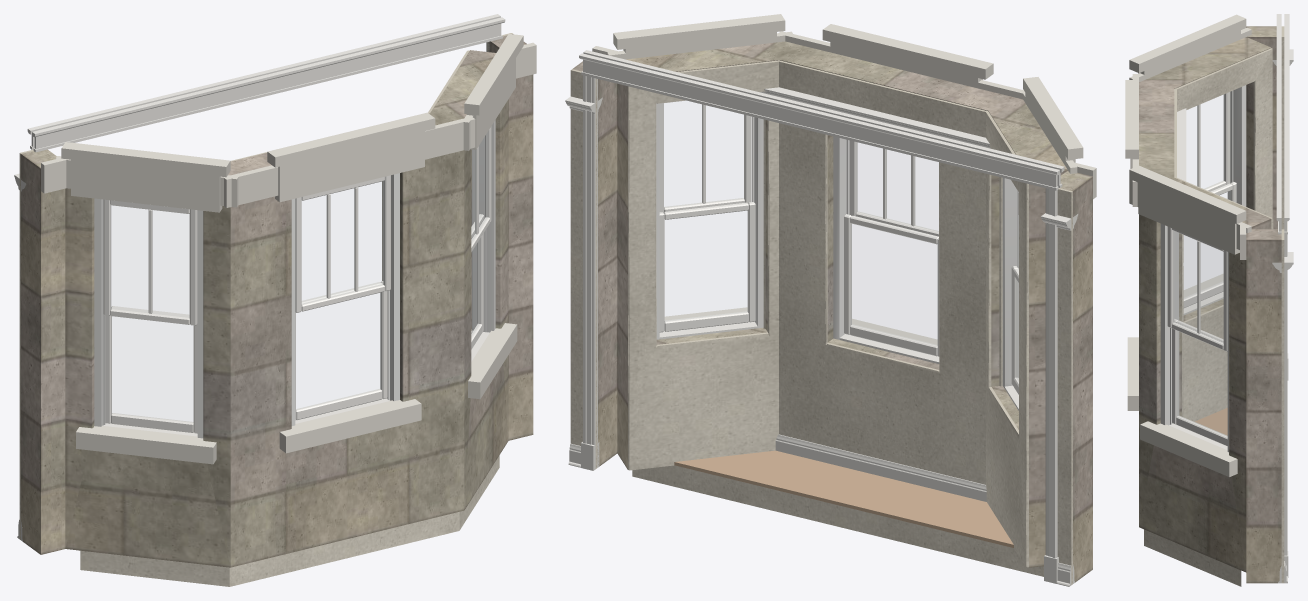
The model's file is bay_b1.glb.
The picture shows the model from 3 angles, left to right: view 1: azimuth 30°, elevation 25°; view 2: azimuth 150°, elevation 25°; view 3: azimuth 270°, elevation 25°; orthographic projection. The views are drawn at different scales.
Visible parts, largest first — view 1: bay_b1_grey, bay_b1_lime, bay_b1_glass, bay_b1_sash, molduras, bay_b1_frame, bay_b1_plaster, bay_b1_trim; view 2: bay_b1_plaster, bay_b1_grey, molduras, bay_b1_glass, bay_b1_lime, bay_b1_sash, bay_b1_floor, bay_b1_frame, bay_b1_trim; view 3: bay_b1_grey, bay_b1_plaster, bay_b1_lime, bay_b1_glass, bay_b1_sash, molduras, bay_b1_frame, bay_b1_trim, bay_b1_floor.
Part boxes in pixels (left/top/right/bottom): bay_b1_grey: left=21, top=34, right=533, bottom=567; bay_b1_lime: left=41, top=34, right=536, bottom=464; bay_b1_glass: left=111, top=133, right=487, bottom=421; bay_b1_sash: left=103, top=126, right=491, bottom=433; molduras: left=14, top=14, right=505, bottom=541; bay_b1_frame: left=94, top=120, right=495, bottom=438; bay_b1_plaster: left=19, top=33, right=512, bottom=586; bay_b1_trim: left=103, top=330, right=489, bottom=436; bay_b1_plaster: left=570, top=60, right=1072, bottom=584; bay_b1_grey: left=572, top=41, right=1092, bottom=582; molduras: left=565, top=50, right=1078, bottom=586; bay_b1_glass: left=664, top=101, right=1018, bottom=380; bay_b1_lime: left=592, top=14, right=1096, bottom=344; bay_b1_sash: left=659, top=103, right=1018, bottom=394; bay_b1_floor: left=674, top=450, right=1013, bottom=547; bay_b1_frame: left=656, top=92, right=1018, bottom=387; bay_b1_trim: left=659, top=321, right=1018, bottom=410; bay_b1_grey: left=1139, top=26, right=1281, bottom=583; bay_b1_plaster: left=1144, top=26, right=1284, bottom=586; bay_b1_lime: left=1125, top=14, right=1251, bottom=476; bay_b1_glass: left=1173, top=95, right=1230, bottom=435; bay_b1_sash: left=1167, top=92, right=1236, bottom=446; molduras: left=1177, top=14, right=1293, bottom=583; bay_b1_frame: left=1160, top=85, right=1246, bottom=452; bay_b1_trim: left=1169, top=291, right=1227, bottom=449; bay_b1_floor: left=1195, top=408, right=1227, bottom=435.
Bounding box in the file's own units: 4 × 3.33 × 1.33.
8 materials, 2 textured.
